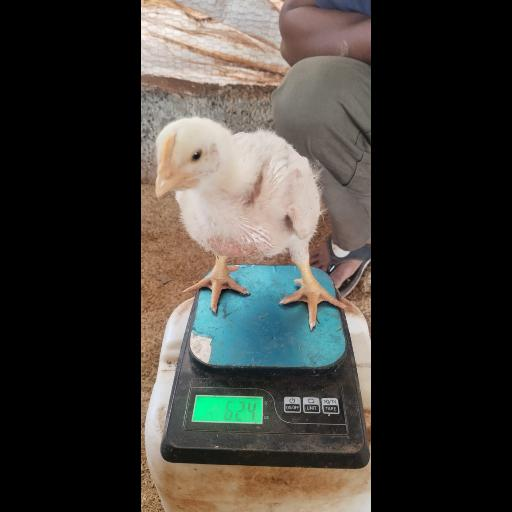chick: (157, 117, 350, 328)
